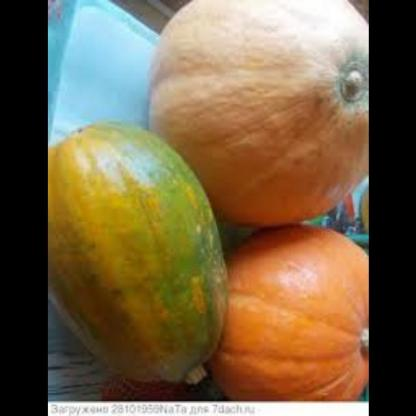pumpkin: (145, 0, 370, 227), (49, 114, 233, 390), (215, 224, 369, 396)
